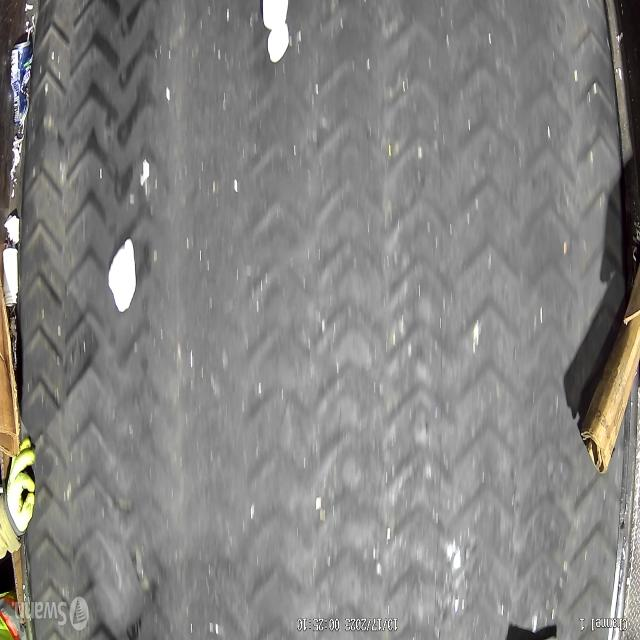can: (10, 39, 31, 128)
